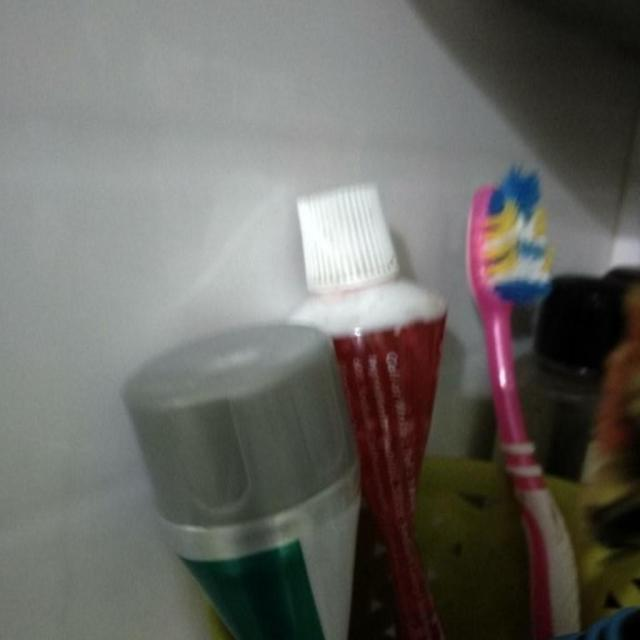Toothpaste: (282, 176, 450, 640)
